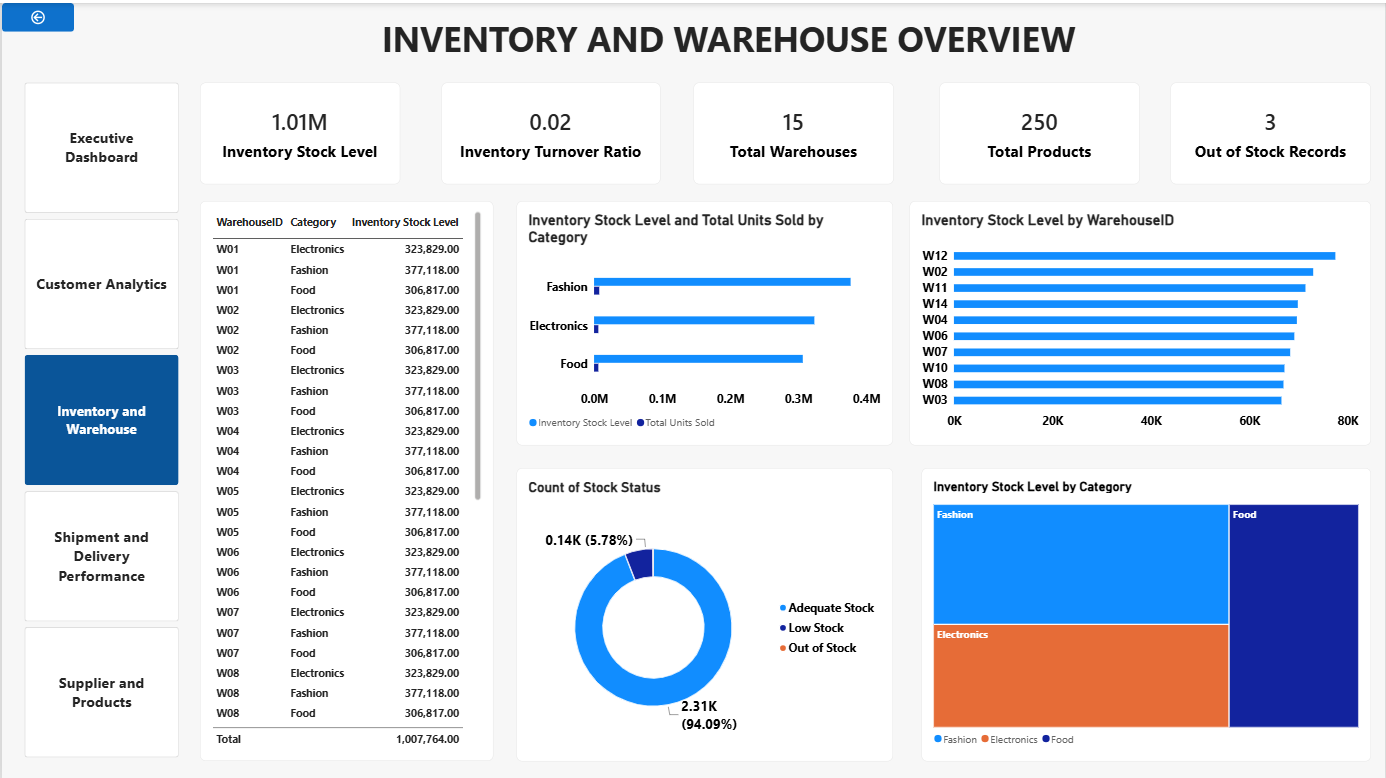

The page's visual inventory and layout, read from the dashboard file:
{"tool":"powerbi","page":{"name":"Inventory and Warehouse","canvas":[1920,1080],"ordinal":2},"visuals":[{"type":"card","fields":{"Values":["_Measure.Inventory Stock Level"]},"box":[275.5,110.7,277.9,141.3],"z":0},{"type":"card","fields":{"Values":["_Measure.Total Warehouses"]},"box":[960.7,110.7,277.9,141.3],"z":1000},{"type":"card","fields":{"Values":["_Measure.Total Products"]},"box":[1302.2,110.7,277.9,141.3],"z":2000},{"type":"tableEx","fields":{"Values":["Fact_Shipments.WarehouseID","Dim_Products.Category","_Measure.Inventory Stock Level"]},"box":[275.5,275.5,407.4,777.1],"z":3000},{"type":"clusteredBarChart","fields":{"Category":["Dim_Warehouses.WarehouseID"],"Y":["_Measure.Inventory Stock Level"]},"box":[1259.8,275.5,640.5,339.1],"z":4000},{"type":"textbox","box":[317.9,16.5,1379.9,75.4],"z":5000},{"type":"pageNavigator","box":[30.6,110.7,214.3,941.9],"z":6000},{"type":"card","fields":{"Values":["_Measure.Inventory Turnover Ratio"]},"box":[609.9,110.7,303.8,141.3],"z":7000},{"type":"treemap","fields":{"Group":["Dim_Products.Category"],"Values":["_Measure.Inventory Stock Level"]},"box":[1276.2,645.2,624,407.4],"z":8000},{"type":"clusteredBarChart","fields":{"Category":["Dim_Products.Category"],"Y":["_Measure.Inventory Stock Level","_Measure.Total Units Sold"]},"box":[713.5,275.5,522.7,339.1],"z":9000},{"type":"donutChart","title":"Count of Stock Status ","fields":{"Category":["Fact_Inventory.Stock Status"],"Y":["CountNonNull(Fact_Inventory.Stock Status)"]},"box":[713.5,645.2,522.7,407.4],"z":10000},{"type":"card","fields":{"Values":["_Measure.Out of Stock Records"]},"box":[1622.4,110.7,277.9,141.3],"z":11000},{"type":"actionButton","box":[0,0,100,40],"z":11001}]}

Visuals, with their boxes in screenshot pixels (x1, y1, x2, y2), scaled from the page's 1920x1080 canvas onto the 1386x778 screenshot:
card - _Measure.Inventory Stock Level: {"left": 199, "top": 80, "right": 399, "bottom": 182}
card - _Measure.Total Warehouses: {"left": 694, "top": 80, "right": 894, "bottom": 182}
card - _Measure.Total Products: {"left": 940, "top": 80, "right": 1141, "bottom": 182}
tableEx - Fact_Shipments.WarehouseID x Dim_Products.Category: {"left": 199, "top": 198, "right": 493, "bottom": 758}
clusteredBarChart - Dim_Warehouses.WarehouseID x _Measure.Inventory Stock Level: {"left": 909, "top": 198, "right": 1372, "bottom": 443}
textbox: {"left": 229, "top": 12, "right": 1226, "bottom": 66}
pageNavigator: {"left": 22, "top": 80, "right": 177, "bottom": 758}
card - _Measure.Inventory Turnover Ratio: {"left": 440, "top": 80, "right": 660, "bottom": 182}
treemap - Dim_Products.Category x _Measure.Inventory Stock Level: {"left": 921, "top": 465, "right": 1372, "bottom": 758}
clusteredBarChart - Dim_Products.Category x _Measure.Inventory Stock Level: {"left": 515, "top": 198, "right": 892, "bottom": 443}
"Count of Stock Status " donutChart: {"left": 515, "top": 465, "right": 892, "bottom": 758}
card - _Measure.Out of Stock Records: {"left": 1171, "top": 80, "right": 1372, "bottom": 182}
actionButton: {"left": 0, "top": 0, "right": 72, "bottom": 29}
